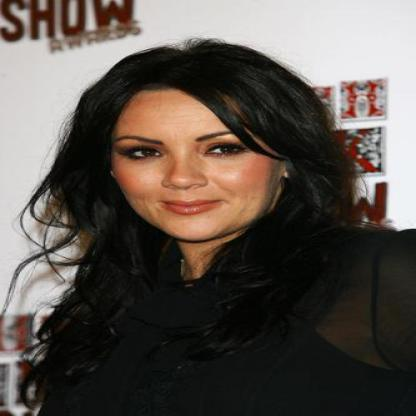long-hair: (41, 244, 366, 282)
